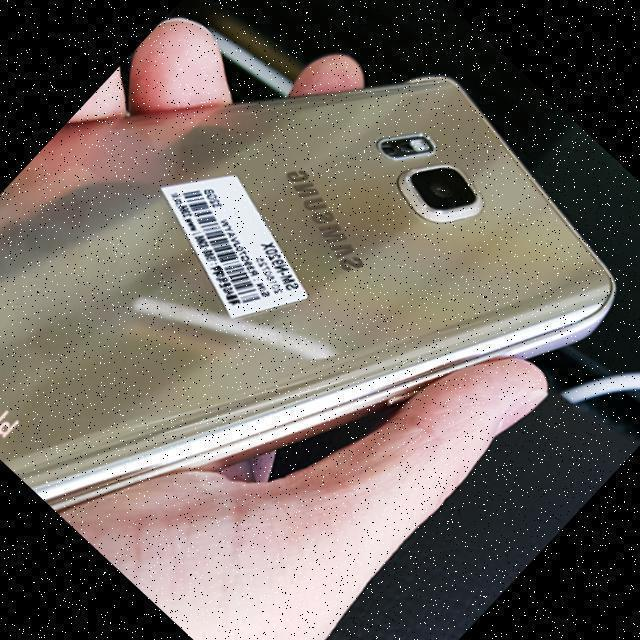mobile: (1, 64, 623, 507)
